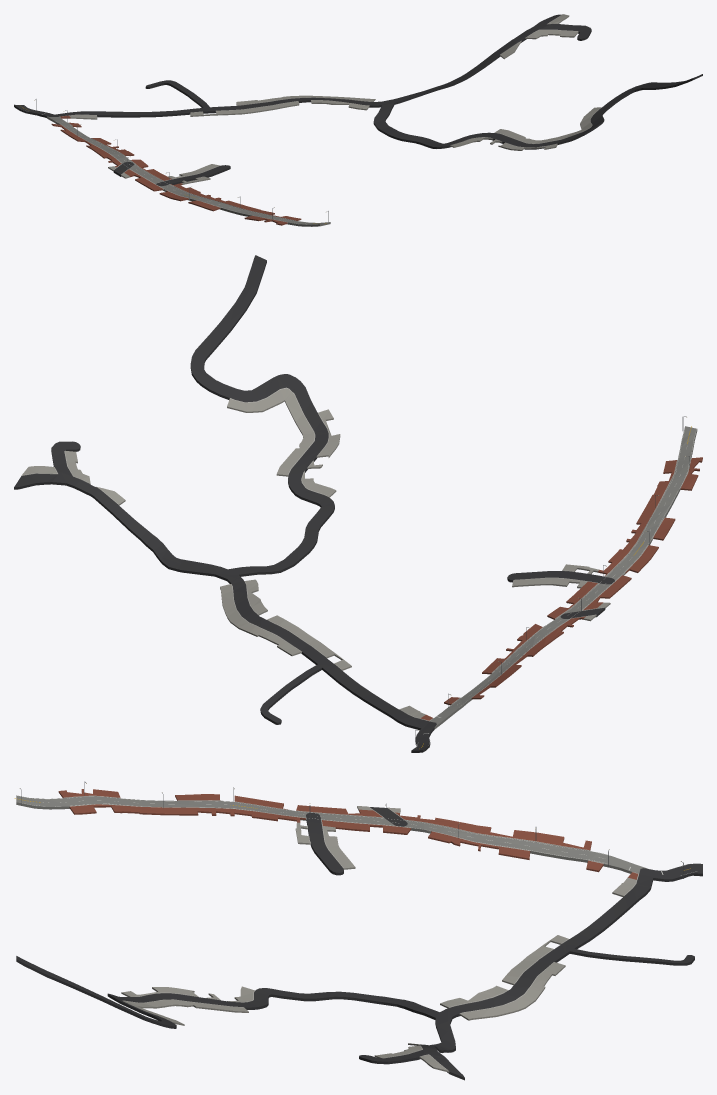
Rendered from 17-109442-59455.70b3aee5.glb.
3 views of the same model, one above another, from view 1: azimuth 30°, elevation 25°; view 2: azimuth 150°, elevation 25°; view 3: azimuth 270°, elevation 25° (orthographic). The views are drawn at different scales.
Size of the model in its own units: 293 by 82.96 by 292.
